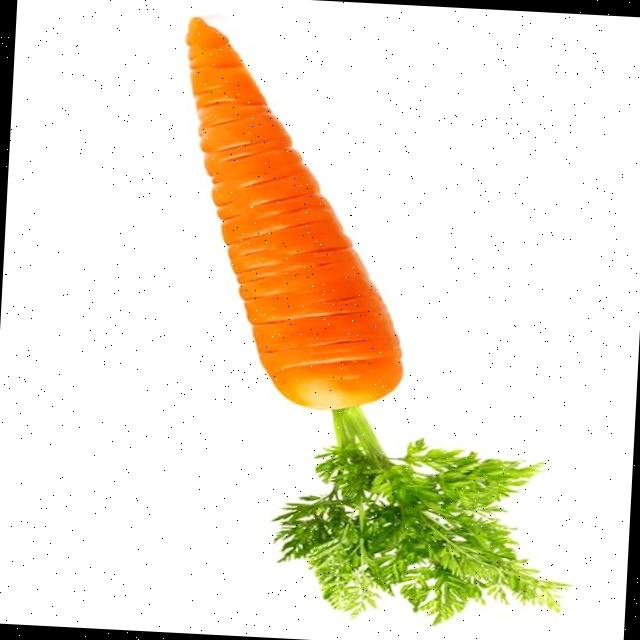carrot: (186, 17, 563, 623)
